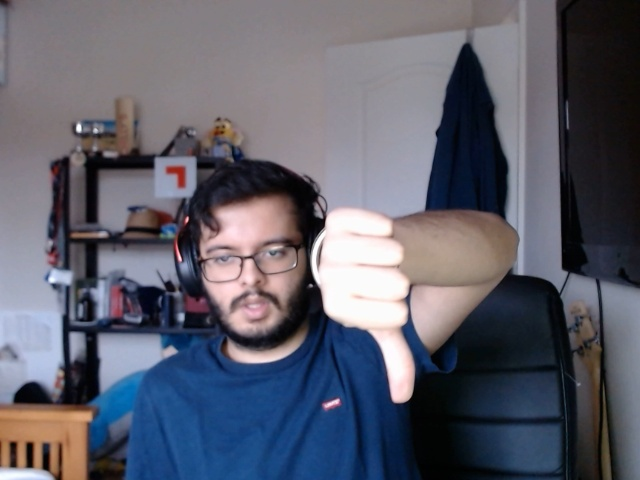Thumbs down: (310, 198, 414, 416)
